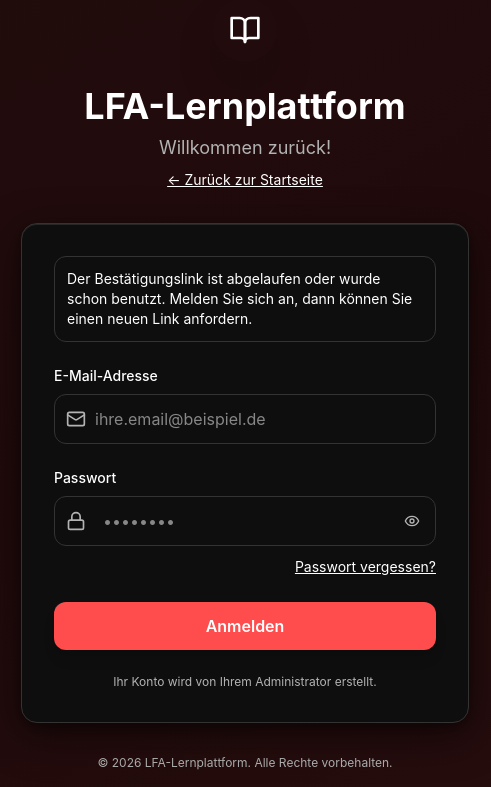
Test: LoginForm and the confirmation of the e-mail address › the notice after the link of the e-mail › the notice goes away when the person submits
In the field labelled "E-Mail-Adresse": (245, 418) [54,394,436,444], type "azubi@example.com"
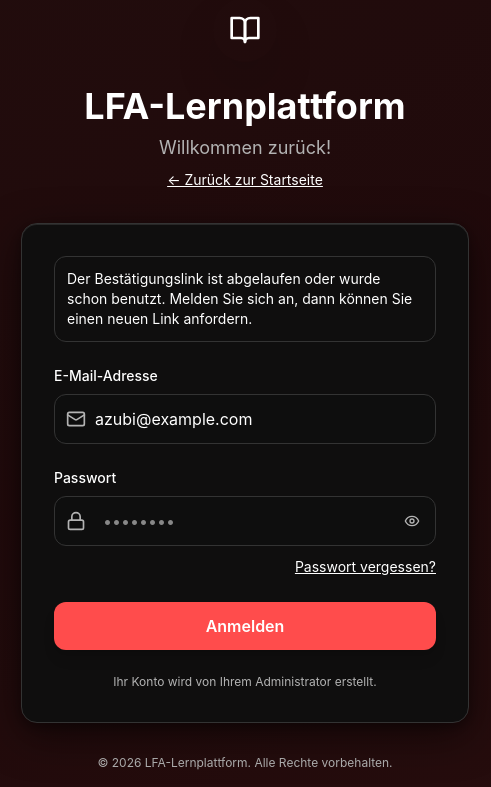
In the password field labelled "Passwort": (245, 520) [54,496,436,546], type "geheim12"
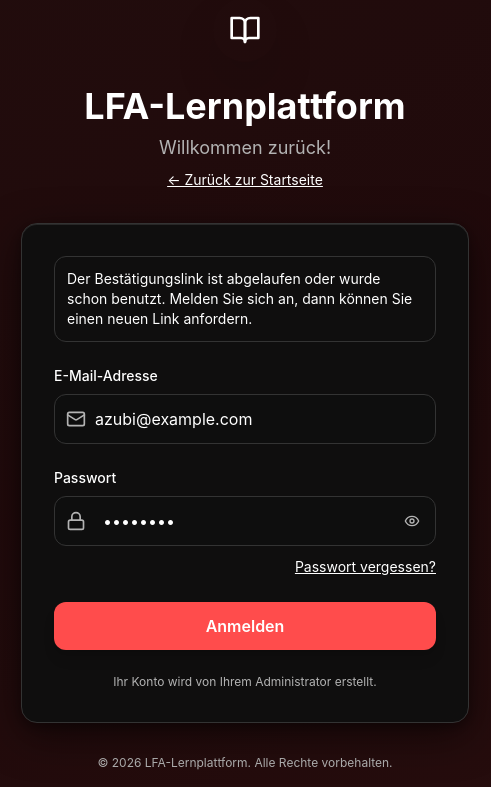
Click the button "Anmelden": (245, 626) [54,602,436,650]
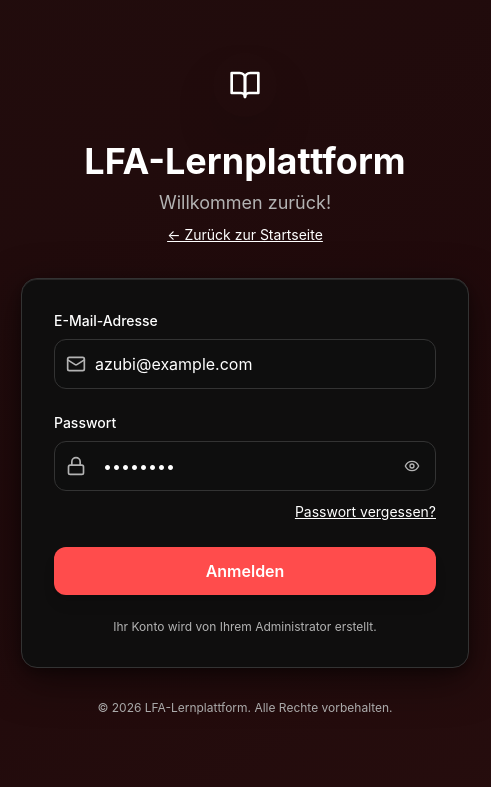
Now the message is gone
